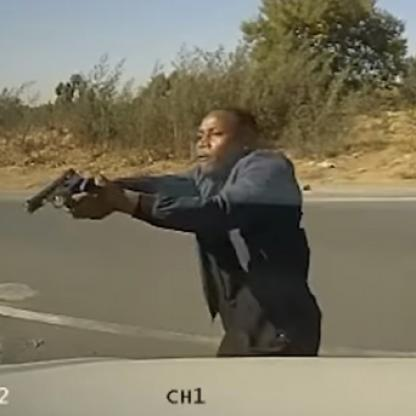criminal: (23, 107, 323, 357)
weapon: (24, 168, 96, 216)
